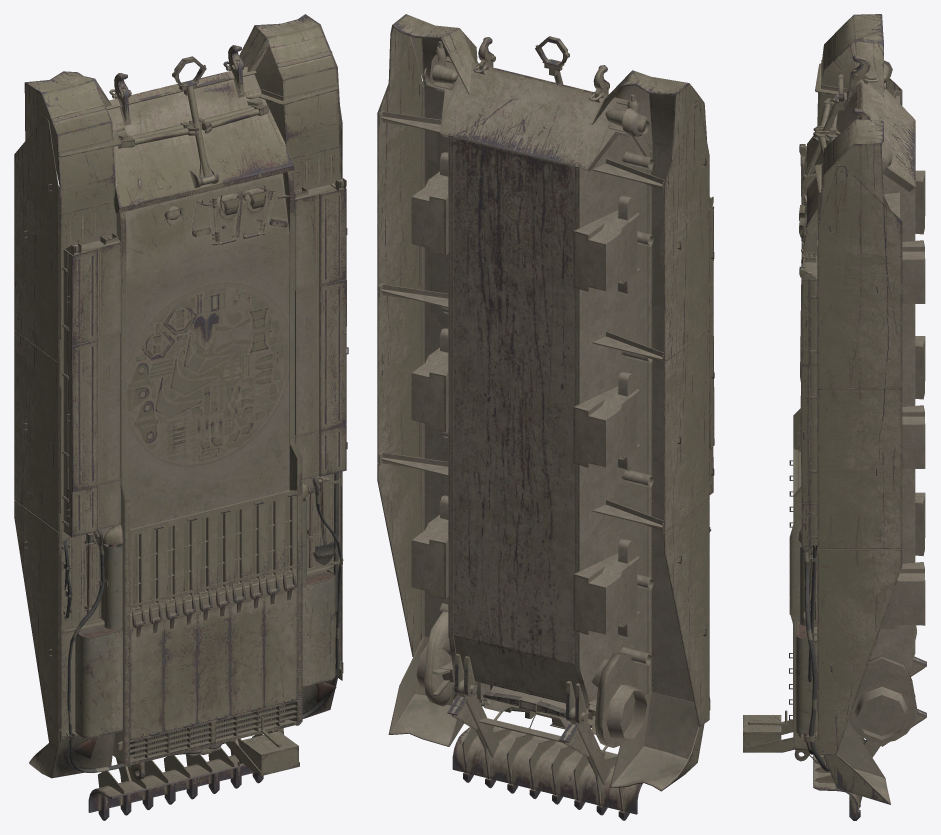
File: Hull.glb
3 renders of one model, left to right at view 1: azimuth 30°, elevation 25°; view 2: azimuth 150°, elevation 25°; view 3: azimuth 270°, elevation 25°, orthographic. The views are drawn at different scales.
Parts seen in each view (by area): view 1: set_0_group_0; view 2: set_0_group_0; view 3: set_0_group_0.
Part boxes in pixels (x1,y1,x2,y2): set_0_group_0: (14,14,348,820); set_0_group_0: (377,14,714,820); set_0_group_0: (743,14,926,820).
Size of the model in its own units: 3.38 by 8.29 by 1.94.
Materials: 1 (1 with a texture image).
